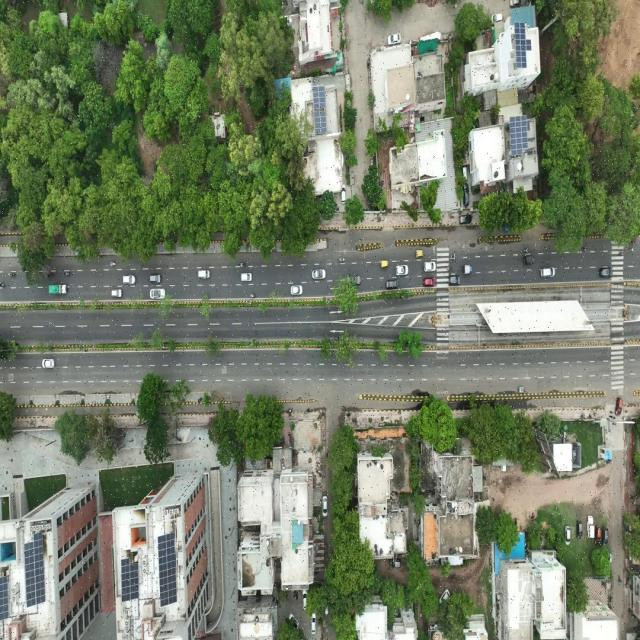3W: (523, 255, 535, 266), (415, 249, 424, 258), (380, 260, 390, 268)
Cars: (386, 30, 403, 45), (614, 397, 624, 420), (311, 267, 326, 281), (150, 288, 167, 300), (540, 266, 556, 278), (598, 266, 614, 278), (122, 273, 136, 286), (395, 264, 409, 277), (422, 276, 437, 288), (563, 524, 572, 544), (310, 612, 318, 634), (463, 183, 470, 208), (459, 213, 472, 226), (290, 284, 304, 296), (42, 358, 56, 370), (602, 526, 610, 546), (386, 279, 400, 290), (423, 261, 437, 272), (576, 519, 583, 541), (448, 274, 461, 285), (198, 269, 210, 280), (241, 272, 253, 283), (149, 274, 162, 284), (322, 496, 328, 517), (111, 288, 123, 298), (596, 525, 602, 545)
LCV: (586, 514, 596, 542), (48, 284, 68, 294), (462, 264, 473, 275), (519, 384, 526, 396)
M2W: (626, 246, 636, 254), (338, 256, 346, 264), (249, 292, 257, 299), (46, 273, 55, 279), (450, 253, 457, 260), (8, 272, 16, 278), (64, 270, 72, 276), (109, 261, 117, 267), (445, 265, 453, 271), (581, 246, 589, 252), (239, 262, 246, 268), (203, 294, 210, 300), (523, 248, 530, 254), (618, 250, 625, 256), (629, 240, 636, 246), (0, 282, 6, 288)
